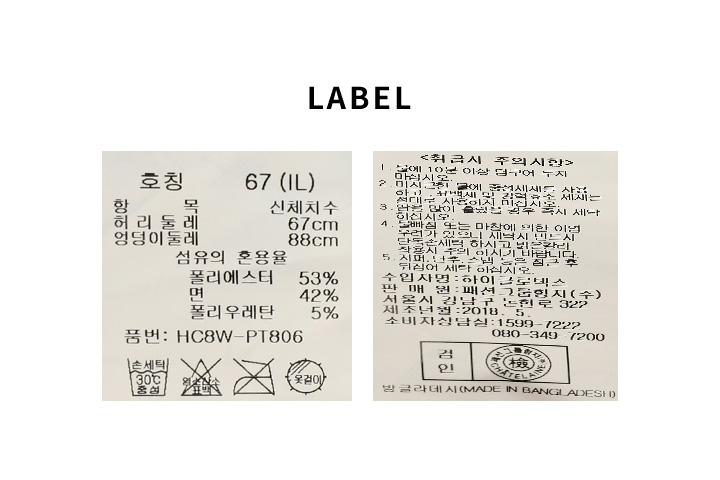KR_hand_wash_30_neutral: (124, 352, 172, 399)
KR_hang_dry_in_shade: (283, 355, 327, 396)
KR_no_bleach: (174, 353, 225, 399)
KR_no_iron: (229, 355, 278, 399)
